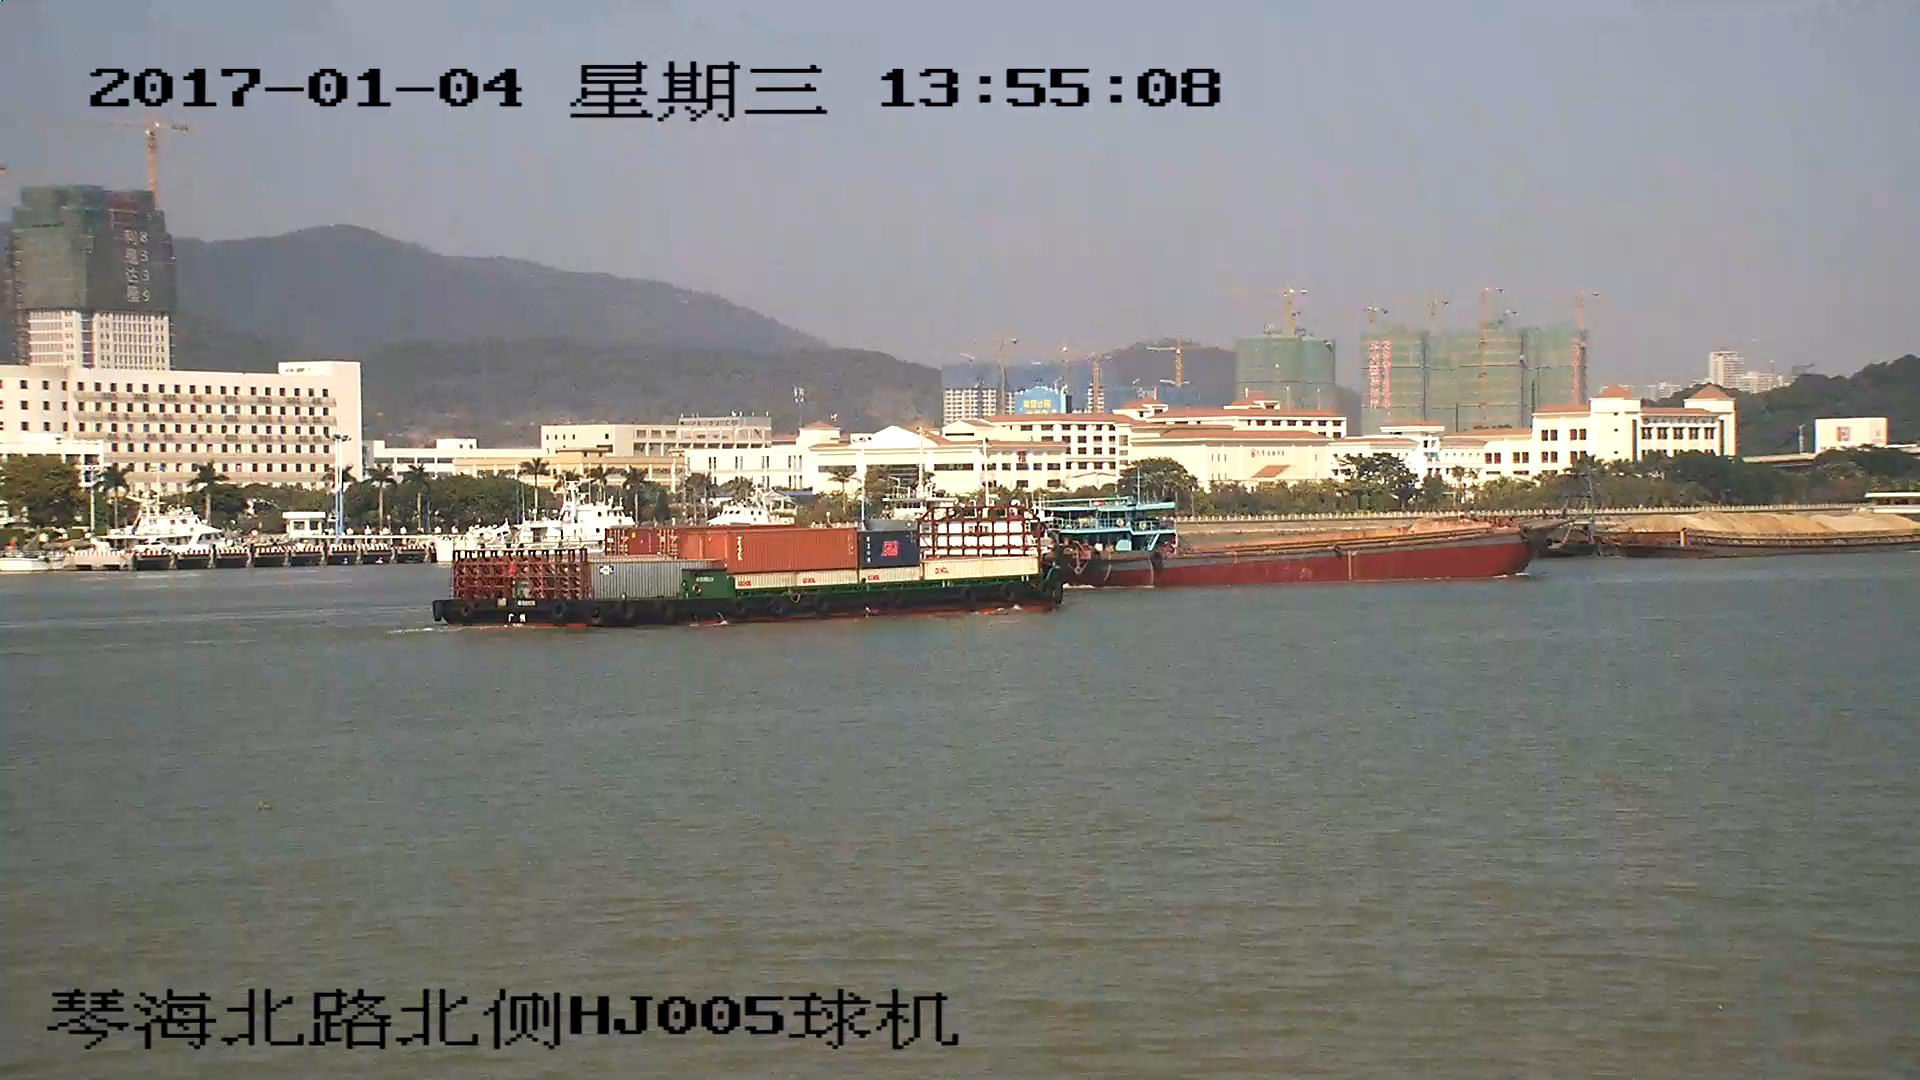bulk cargo carrier: (1066, 522, 1561, 587)
container ship: (435, 505, 1065, 629)
ore carrier: (1561, 503, 1920, 554)
